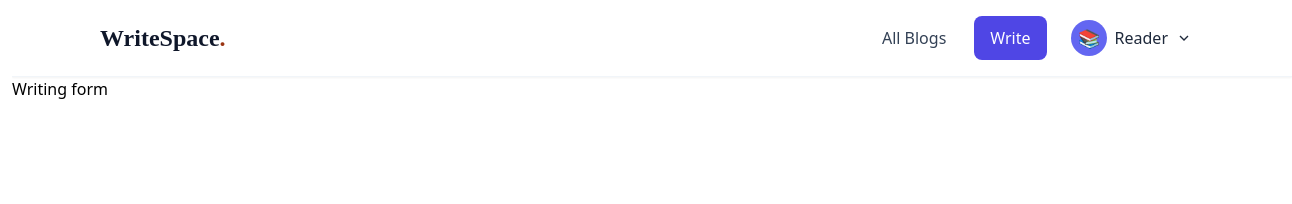
Test: links user role home and logo to their specified destinations
Click the button with aria-label "Account options for Reader" at (1131, 38), box left=1059, top=12, right=1204, bottom=64
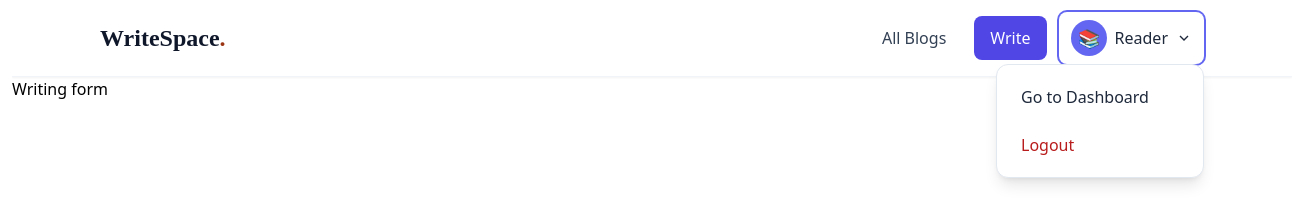
Click the link "Go to Dashboard" at (1085, 97), box left=1021, top=86, right=1149, bottom=108
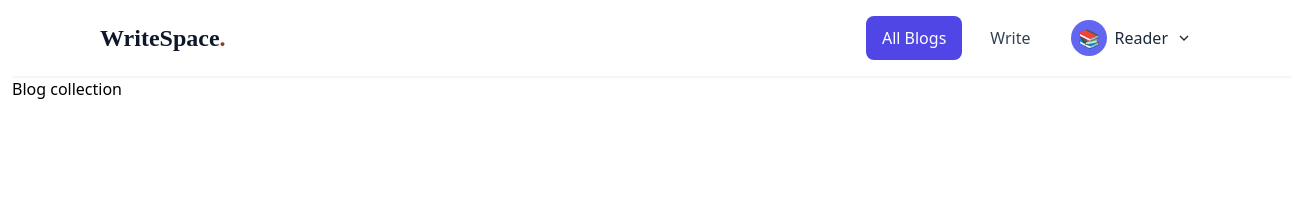
Check: the heading reads "Blog collection", box left=12, top=78, right=122, bottom=100
Click the link with aria-label "WriteSpace home" at (163, 38), box left=100, top=22, right=226, bottom=54
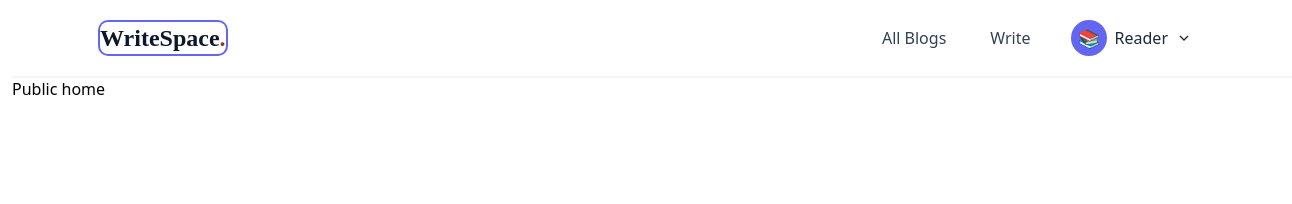
Check: the heading reads "Public home", box left=12, top=78, right=105, bottom=100
